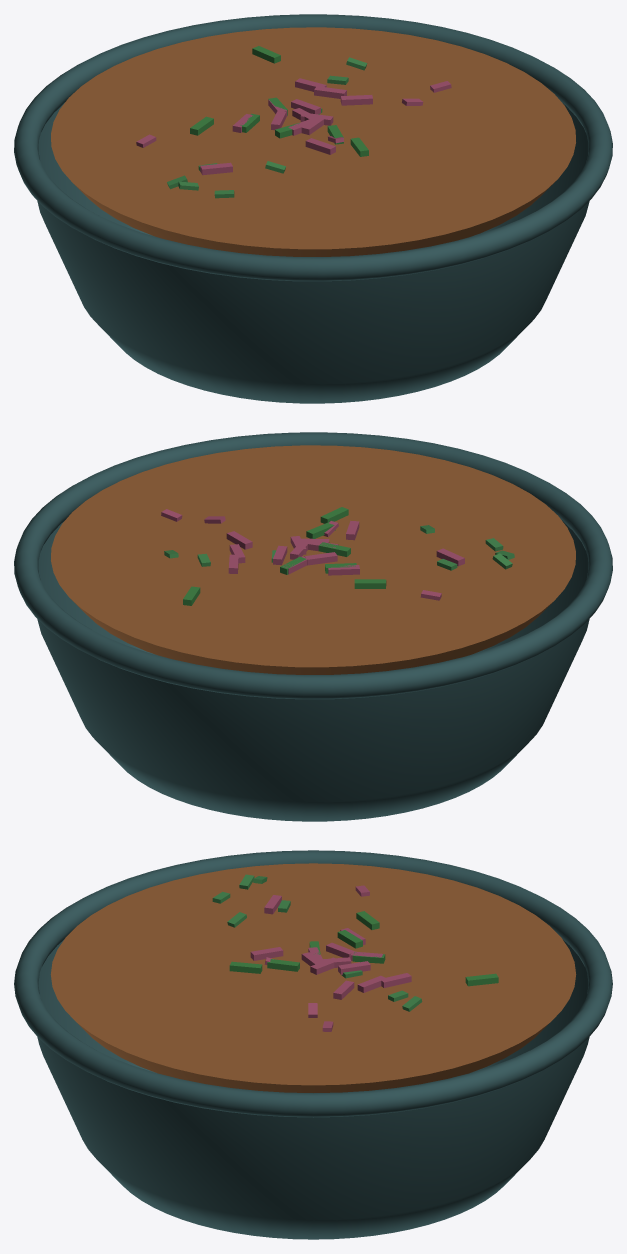
The model's file is haleem.glb.
3 views of the same model, one above another, from view 1: azimuth 30°, elevation 25°; view 2: azimuth 150°, elevation 25°; view 3: azimuth 270°, elevation 25° (orthographic).
Parts seen in each view (by area): view 1: haleem-surface, bowl-shell, bowl-rim; view 2: haleem-surface, bowl-shell, bowl-rim; view 3: haleem-surface, bowl-shell, bowl-rim.
Part boxes in pixels (bbox=[...]): haleem-surface: bbox=[51, 27, 575, 256]; bowl-shell: bbox=[37, 102, 589, 403]; bowl-rim: bbox=[14, 14, 612, 281]; haleem-surface: bbox=[51, 445, 575, 674]; bowl-shell: bbox=[37, 520, 589, 821]; bowl-rim: bbox=[14, 432, 612, 699]; haleem-surface: bbox=[50, 863, 576, 1092]; bowl-shell: bbox=[37, 940, 589, 1239]; bowl-rim: bbox=[14, 850, 612, 1117].
Bounding box in the file's own units: 1.71 × 0.6271 × 1.71.
